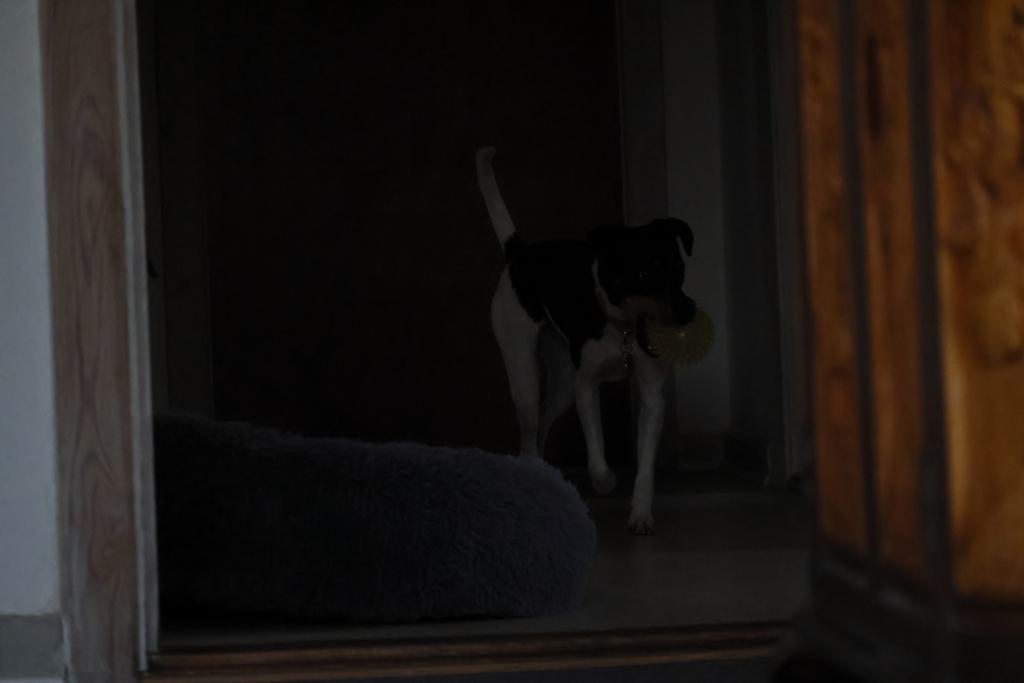Dog: (453, 126, 730, 550)
